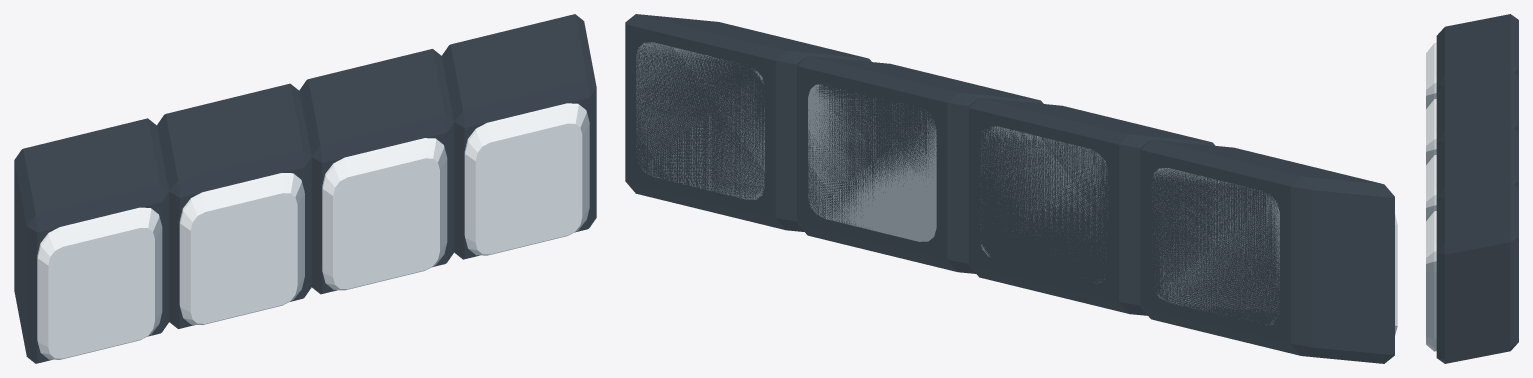
Rendered from Terrain_Block4x1.gltf.
The picture shows the model from 3 angles, left to right: view 1: azimuth 30°, elevation 25°; view 2: azimuth 150°, elevation 25°; view 3: azimuth 270°, elevation 25°; orthographic projection. The views are drawn at different scales.
Visible parts, largest first — view 1: Terrain_Block4x1_baked; view 2: Terrain_Block4x1_baked; view 3: Terrain_Block4x1_baked.
Part boxes in pixels (x1,y1,x2,y2): Terrain_Block4x1_baked: (14, 14, 596, 363); Terrain_Block4x1_baked: (625, 14, 1397, 363); Terrain_Block4x1_baked: (1426, 14, 1518, 363).
Size of the model in its own units: 4.2 by 1.2 by 0.7.
